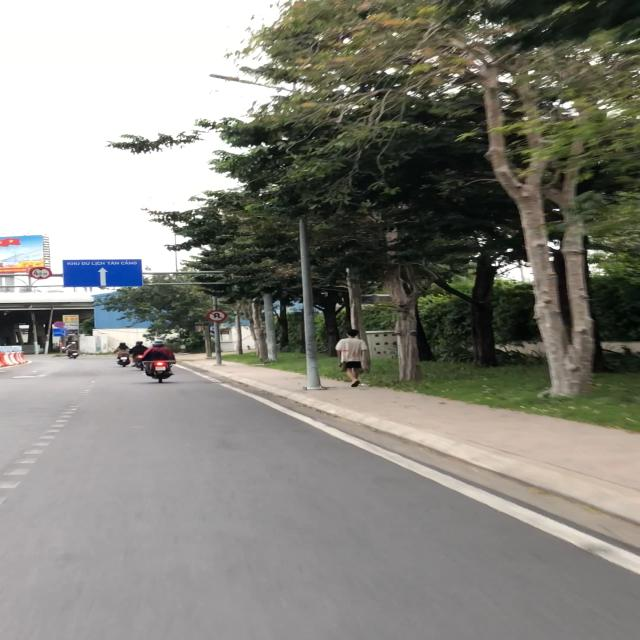Bien bao cam quay dau xe: (204, 309, 230, 322)
Bien bao han che chieu cao: (28, 266, 53, 280)
